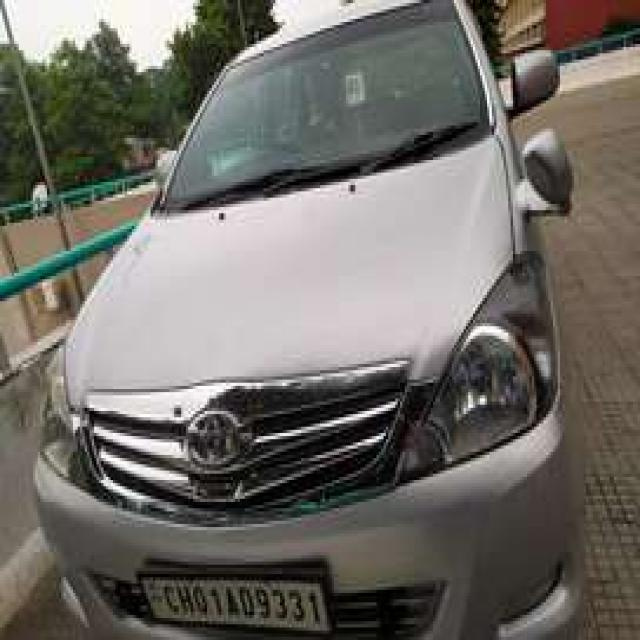Plate: (138, 575, 328, 629)
